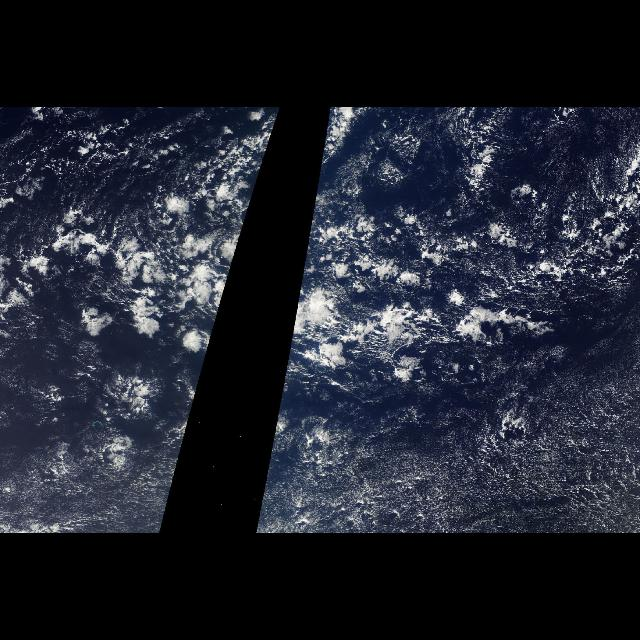Flower: (280, 175, 552, 402), (23, 175, 260, 402)
Gravel: (470, 190, 638, 356)
Sugar: (254, 374, 640, 534), (0, 359, 182, 531)
